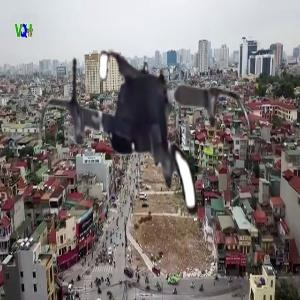drone: (31, 28, 259, 256)
